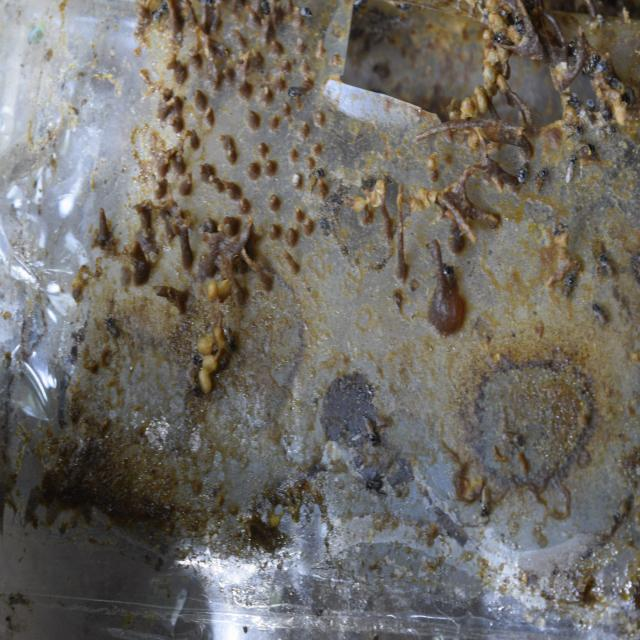honeybee: (592, 301, 610, 327), (563, 153, 579, 182), (598, 258, 616, 282), (534, 165, 550, 191), (562, 269, 578, 294)
